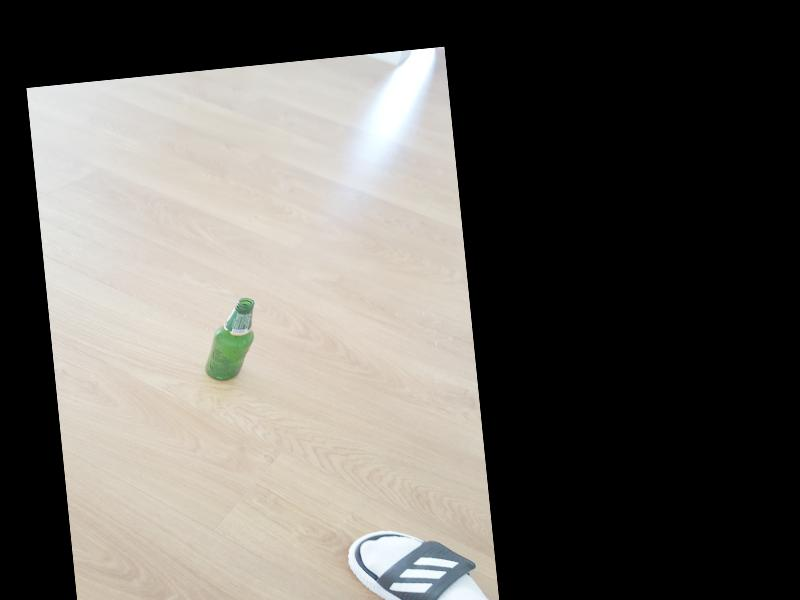Beer: (200, 298, 261, 382)
